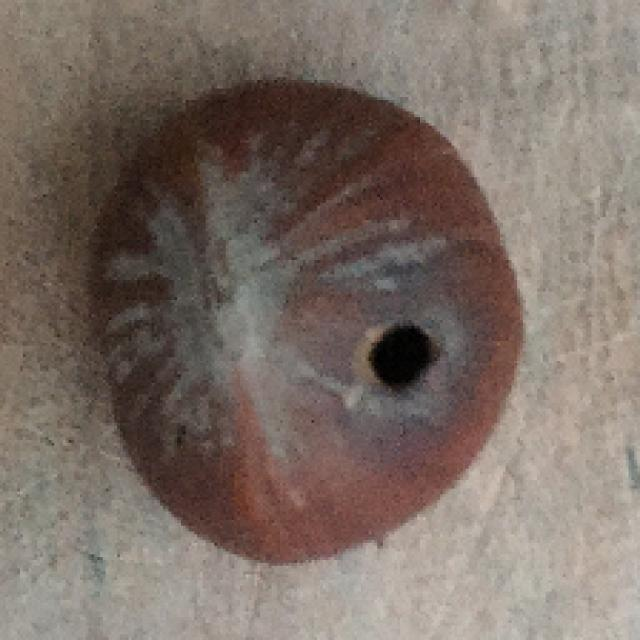damagedHazelnut: (88, 77, 535, 566)
